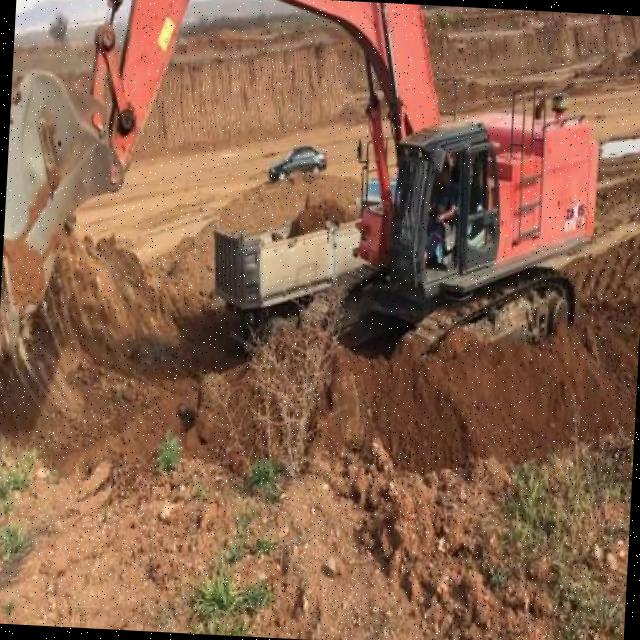Dump Truck: (207, 166, 396, 366)
Excavator: (0, 0, 607, 422)
